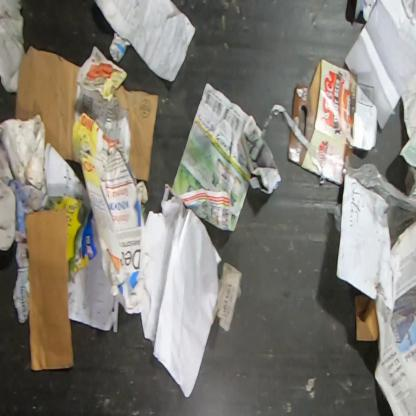cardboard: (15, 44, 159, 183), (292, 57, 379, 186), (25, 206, 75, 372), (287, 129, 320, 178), (354, 289, 380, 342)
soft_plastic: (338, 159, 416, 253), (330, 202, 342, 236)
